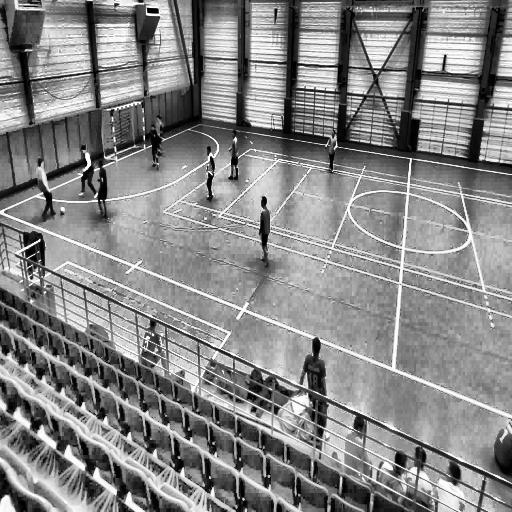ball: (59, 204, 67, 219)
player: (36, 157, 55, 220), (258, 194, 272, 266), (80, 144, 97, 201), (96, 158, 109, 219), (205, 144, 216, 202), (229, 128, 240, 183), (326, 129, 338, 174), (150, 123, 160, 171), (155, 114, 164, 156)
